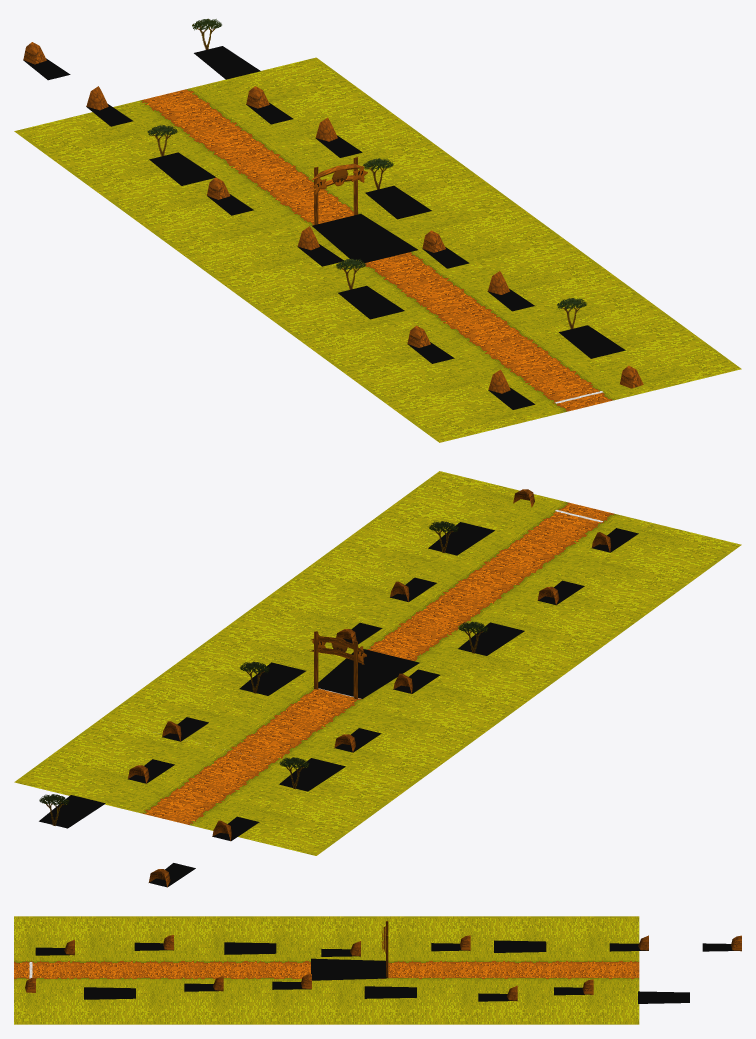
The model's file is dsesertdash.obj.
3 renders of one model, top to bottom at view 1: azimuth 30°, elevation 25°; view 2: azimuth 150°, elevation 25°; view 3: azimuth 270°, elevation 25°, orthographic. The views are drawn at different scales.
Parts seen in each view (by area): view 1: 18, 22, 21, 2, 23, 3, 5; view 2: 18, 22, 21, 23, 2, 3, 5; view 3: 18, 22, 21, 2, 23, 5.
Boxes of the visible parts, bbox=[...] form: 18: bbox=[14, 57, 741, 442]; 22: bbox=[149, 46, 625, 358]; 21: bbox=[23, 58, 535, 409]; 2: bbox=[23, 42, 643, 393]; 23: bbox=[312, 214, 417, 263]; 3: bbox=[147, 18, 586, 329]; 5: bbox=[310, 157, 367, 224]; 18: bbox=[14, 471, 741, 855]; 22: bbox=[39, 522, 524, 828]; 21: bbox=[128, 528, 638, 887]; 23: bbox=[313, 649, 419, 698]; 2: bbox=[127, 489, 610, 887]; 3: bbox=[39, 521, 488, 825]; 5: bbox=[310, 631, 366, 699]; 18: bbox=[14, 916, 639, 1024]; 22: bbox=[84, 940, 689, 1003]; 21: bbox=[35, 942, 741, 1001]; 2: bbox=[25, 935, 741, 1001]; 23: bbox=[311, 958, 386, 980]; 5: bbox=[381, 921, 388, 977].
Bounding box in the file's own units: 69.54 × 12.6 × 197.
Materials: 8 (8 with a texture image).
